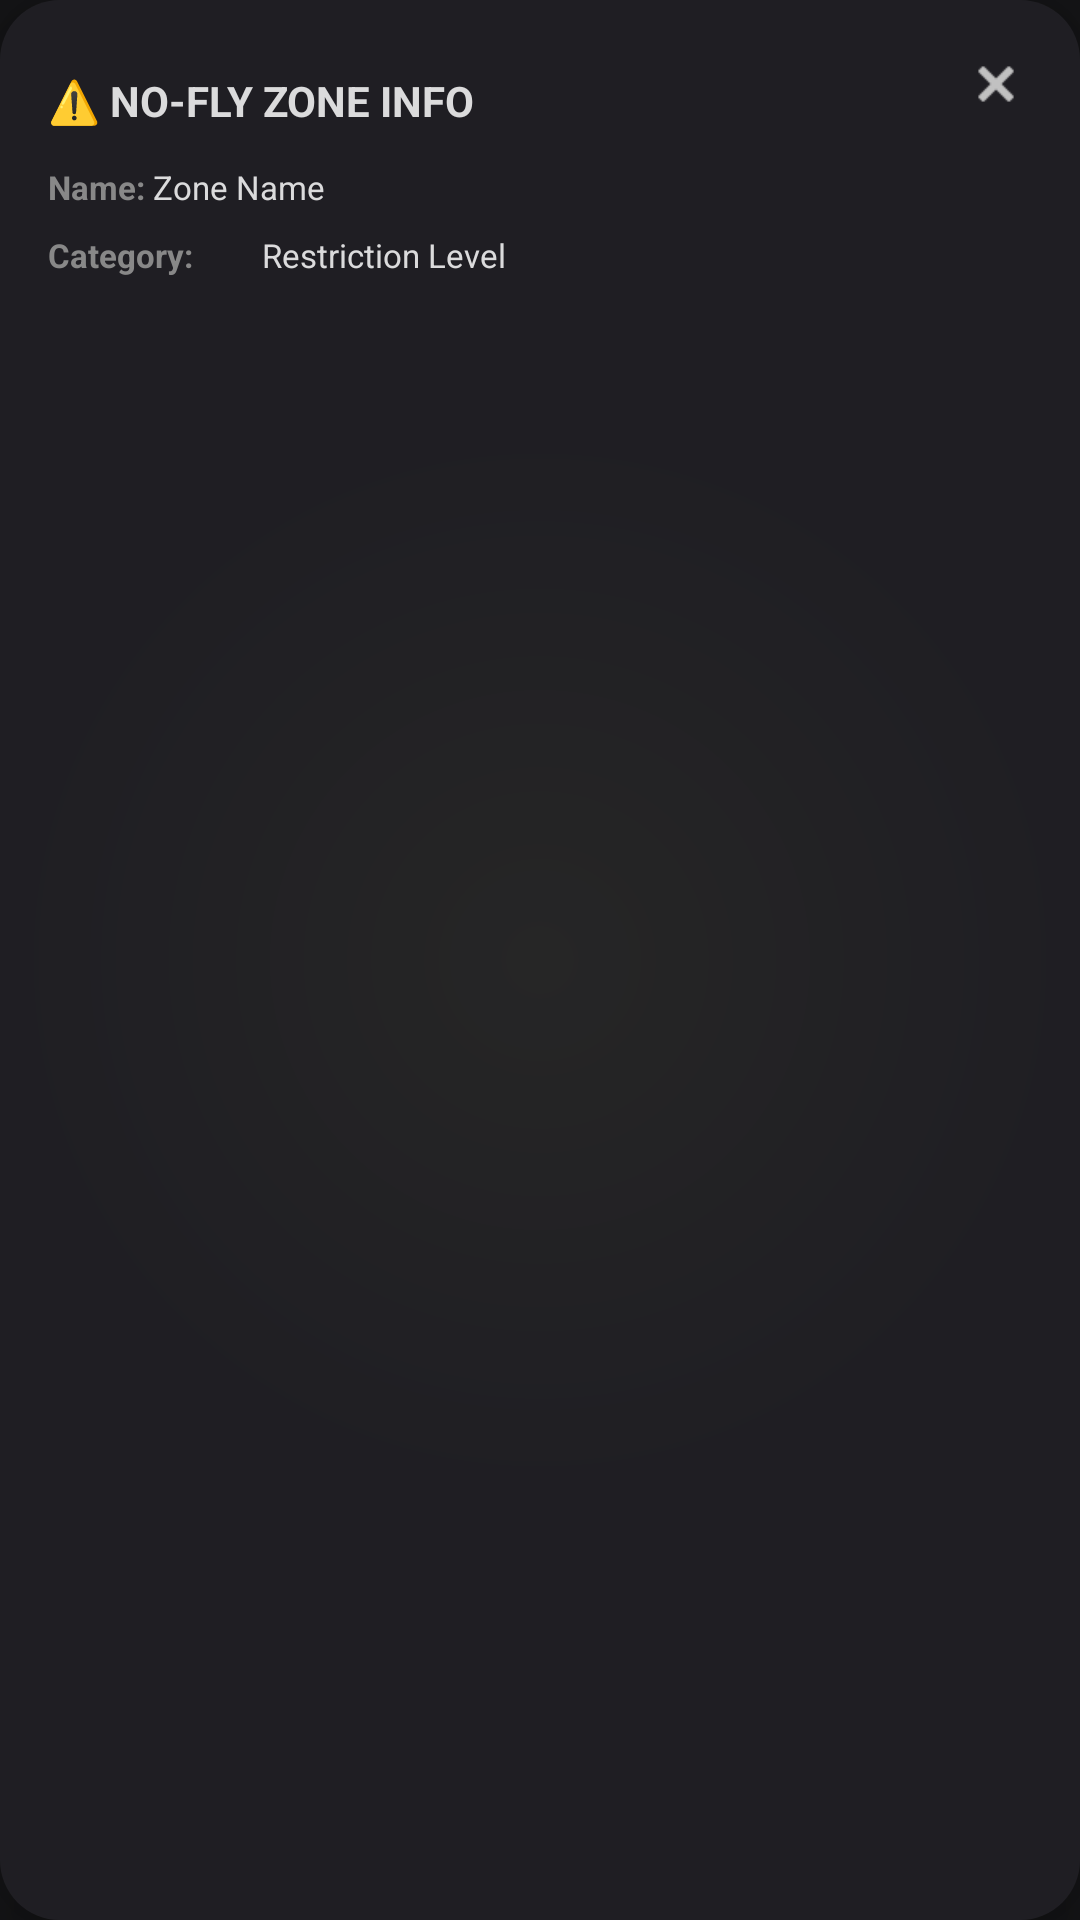

Named icons in this screenshot (1080w x 1920h) and their centers, [x,y]:
Close: [996,84]
